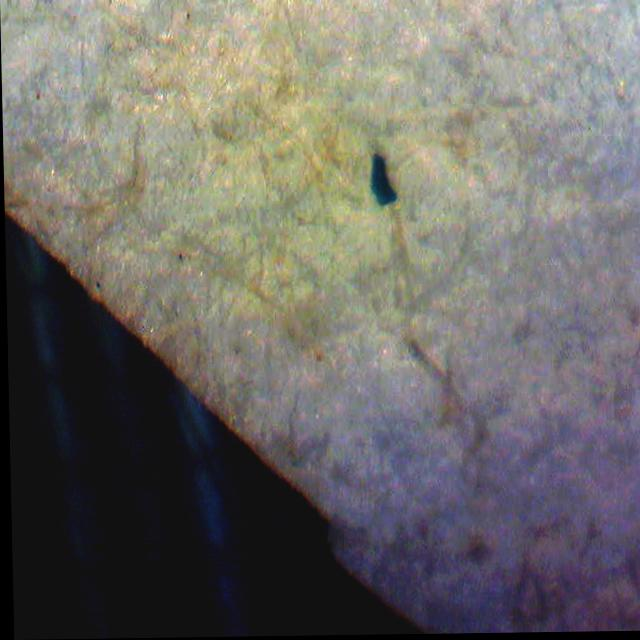microplastic: (358, 153, 398, 210)
